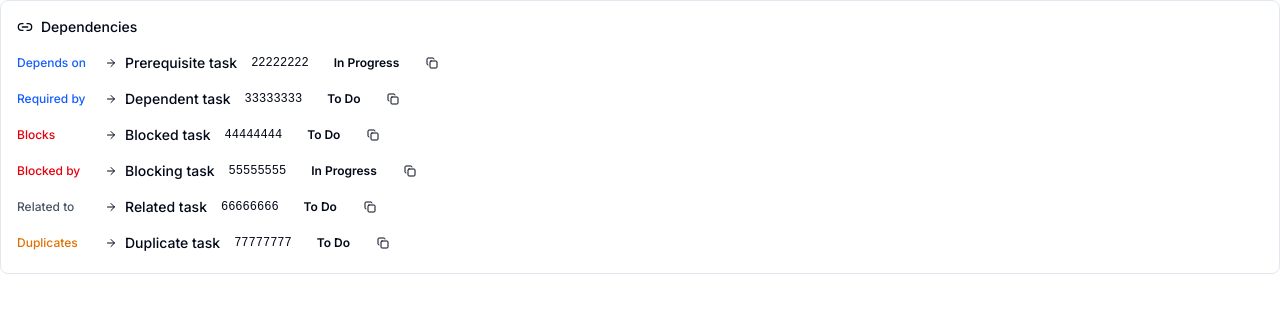
task dependency directions › reports clipboard failures without exposing the browser error
The width and height of the screenshot is (1280, 315).
Click the button named "Copy task ID 22222222-2222-4222-8222-222222222222" at (432, 63), box x1=418 y1=49 x2=446 y2=77
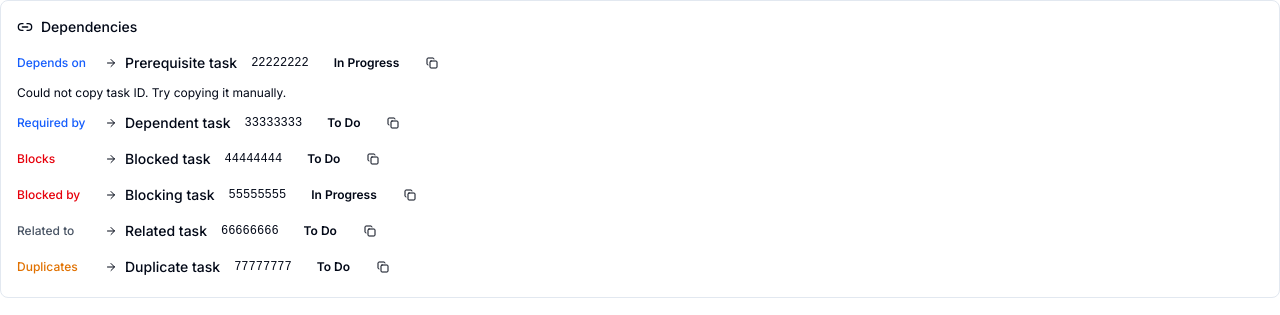
Check: the message does not show "clipboard permission details", box x1=17 y1=85 x2=286 y2=100
Check: the message reads "Could not copy task ID. Try copying it manually.", box x1=17 y1=85 x2=286 y2=100
